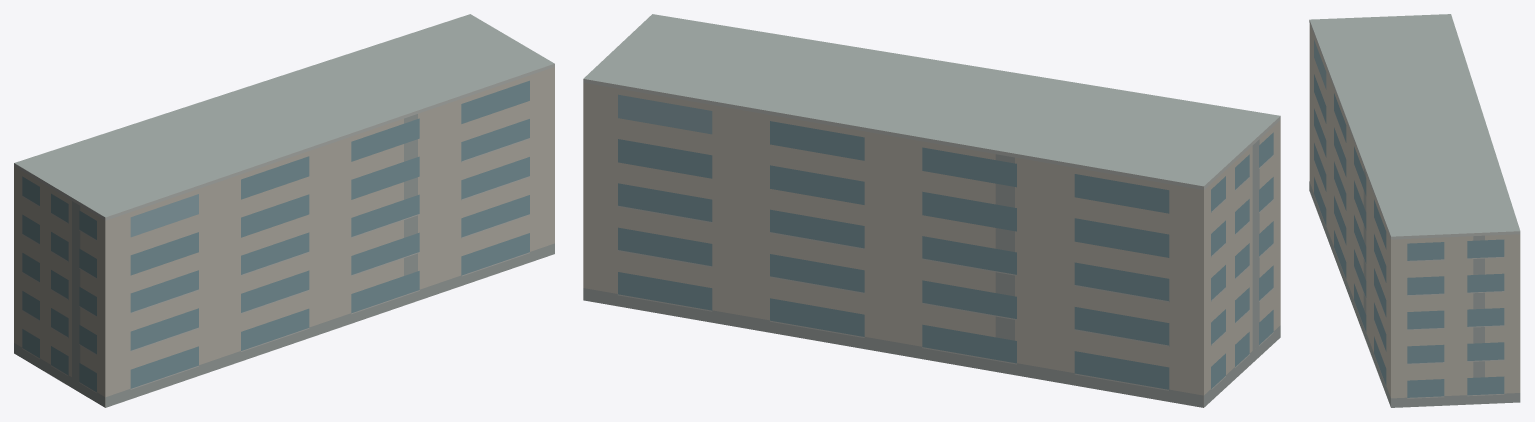
The model's file is residential-1784ce9f-8ea3-485b-bf03-8f2ac43741b2.glb.
3 renders of one model, left to right at view 1: azimuth 30°, elevation 25°; view 2: azimuth 150°, elevation 25°; view 3: azimuth 270°, elevation 25°, orthographic. The views are drawn at different scales.
Visible parts, largest first — view 1: residential-1784ce9f-8ea3-485b-bf03-8f2ac43741b2.tmp; view 2: residential-1784ce9f-8ea3-485b-bf03-8f2ac43741b2.tmp; view 3: residential-1784ce9f-8ea3-485b-bf03-8f2ac43741b2.tmp.
Part boxes in pixels (x1,y1,x2,y2): residential-1784ce9f-8ea3-485b-bf03-8f2ac43741b2.tmp: (14,14,554,407); residential-1784ce9f-8ea3-485b-bf03-8f2ac43741b2.tmp: (583,14,1280,407); residential-1784ce9f-8ea3-485b-bf03-8f2ac43741b2.tmp: (1309,14,1520,407).
Size of the model in its own units: 39.05 by 14 by 15.64.
